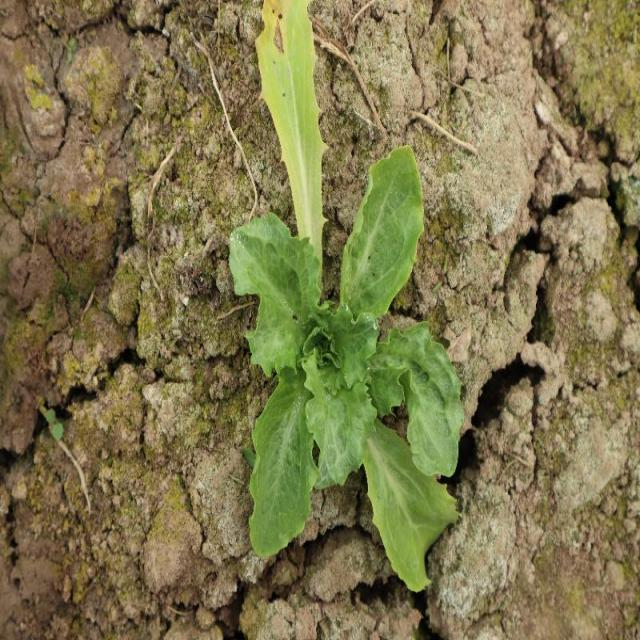crop: (228, 143, 463, 595)
